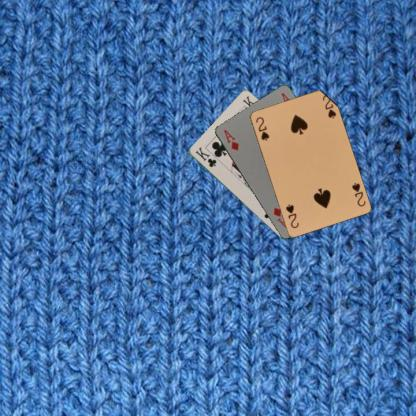2s: (253, 115, 270, 142), (349, 180, 366, 207)
Ad: (221, 126, 240, 152)
Kc: (192, 144, 218, 169)
